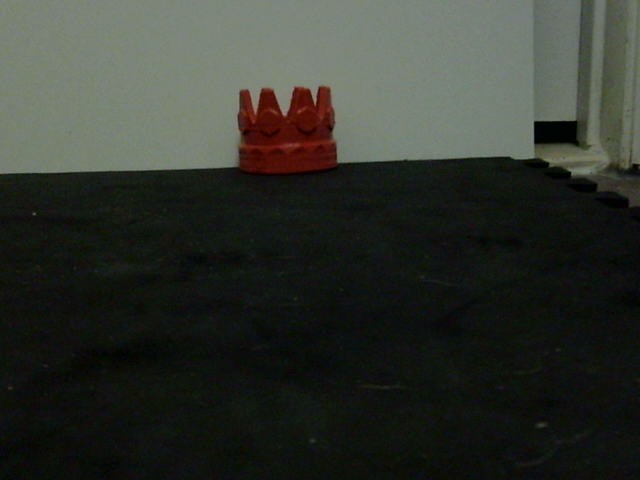crown: (236, 85, 340, 175)
